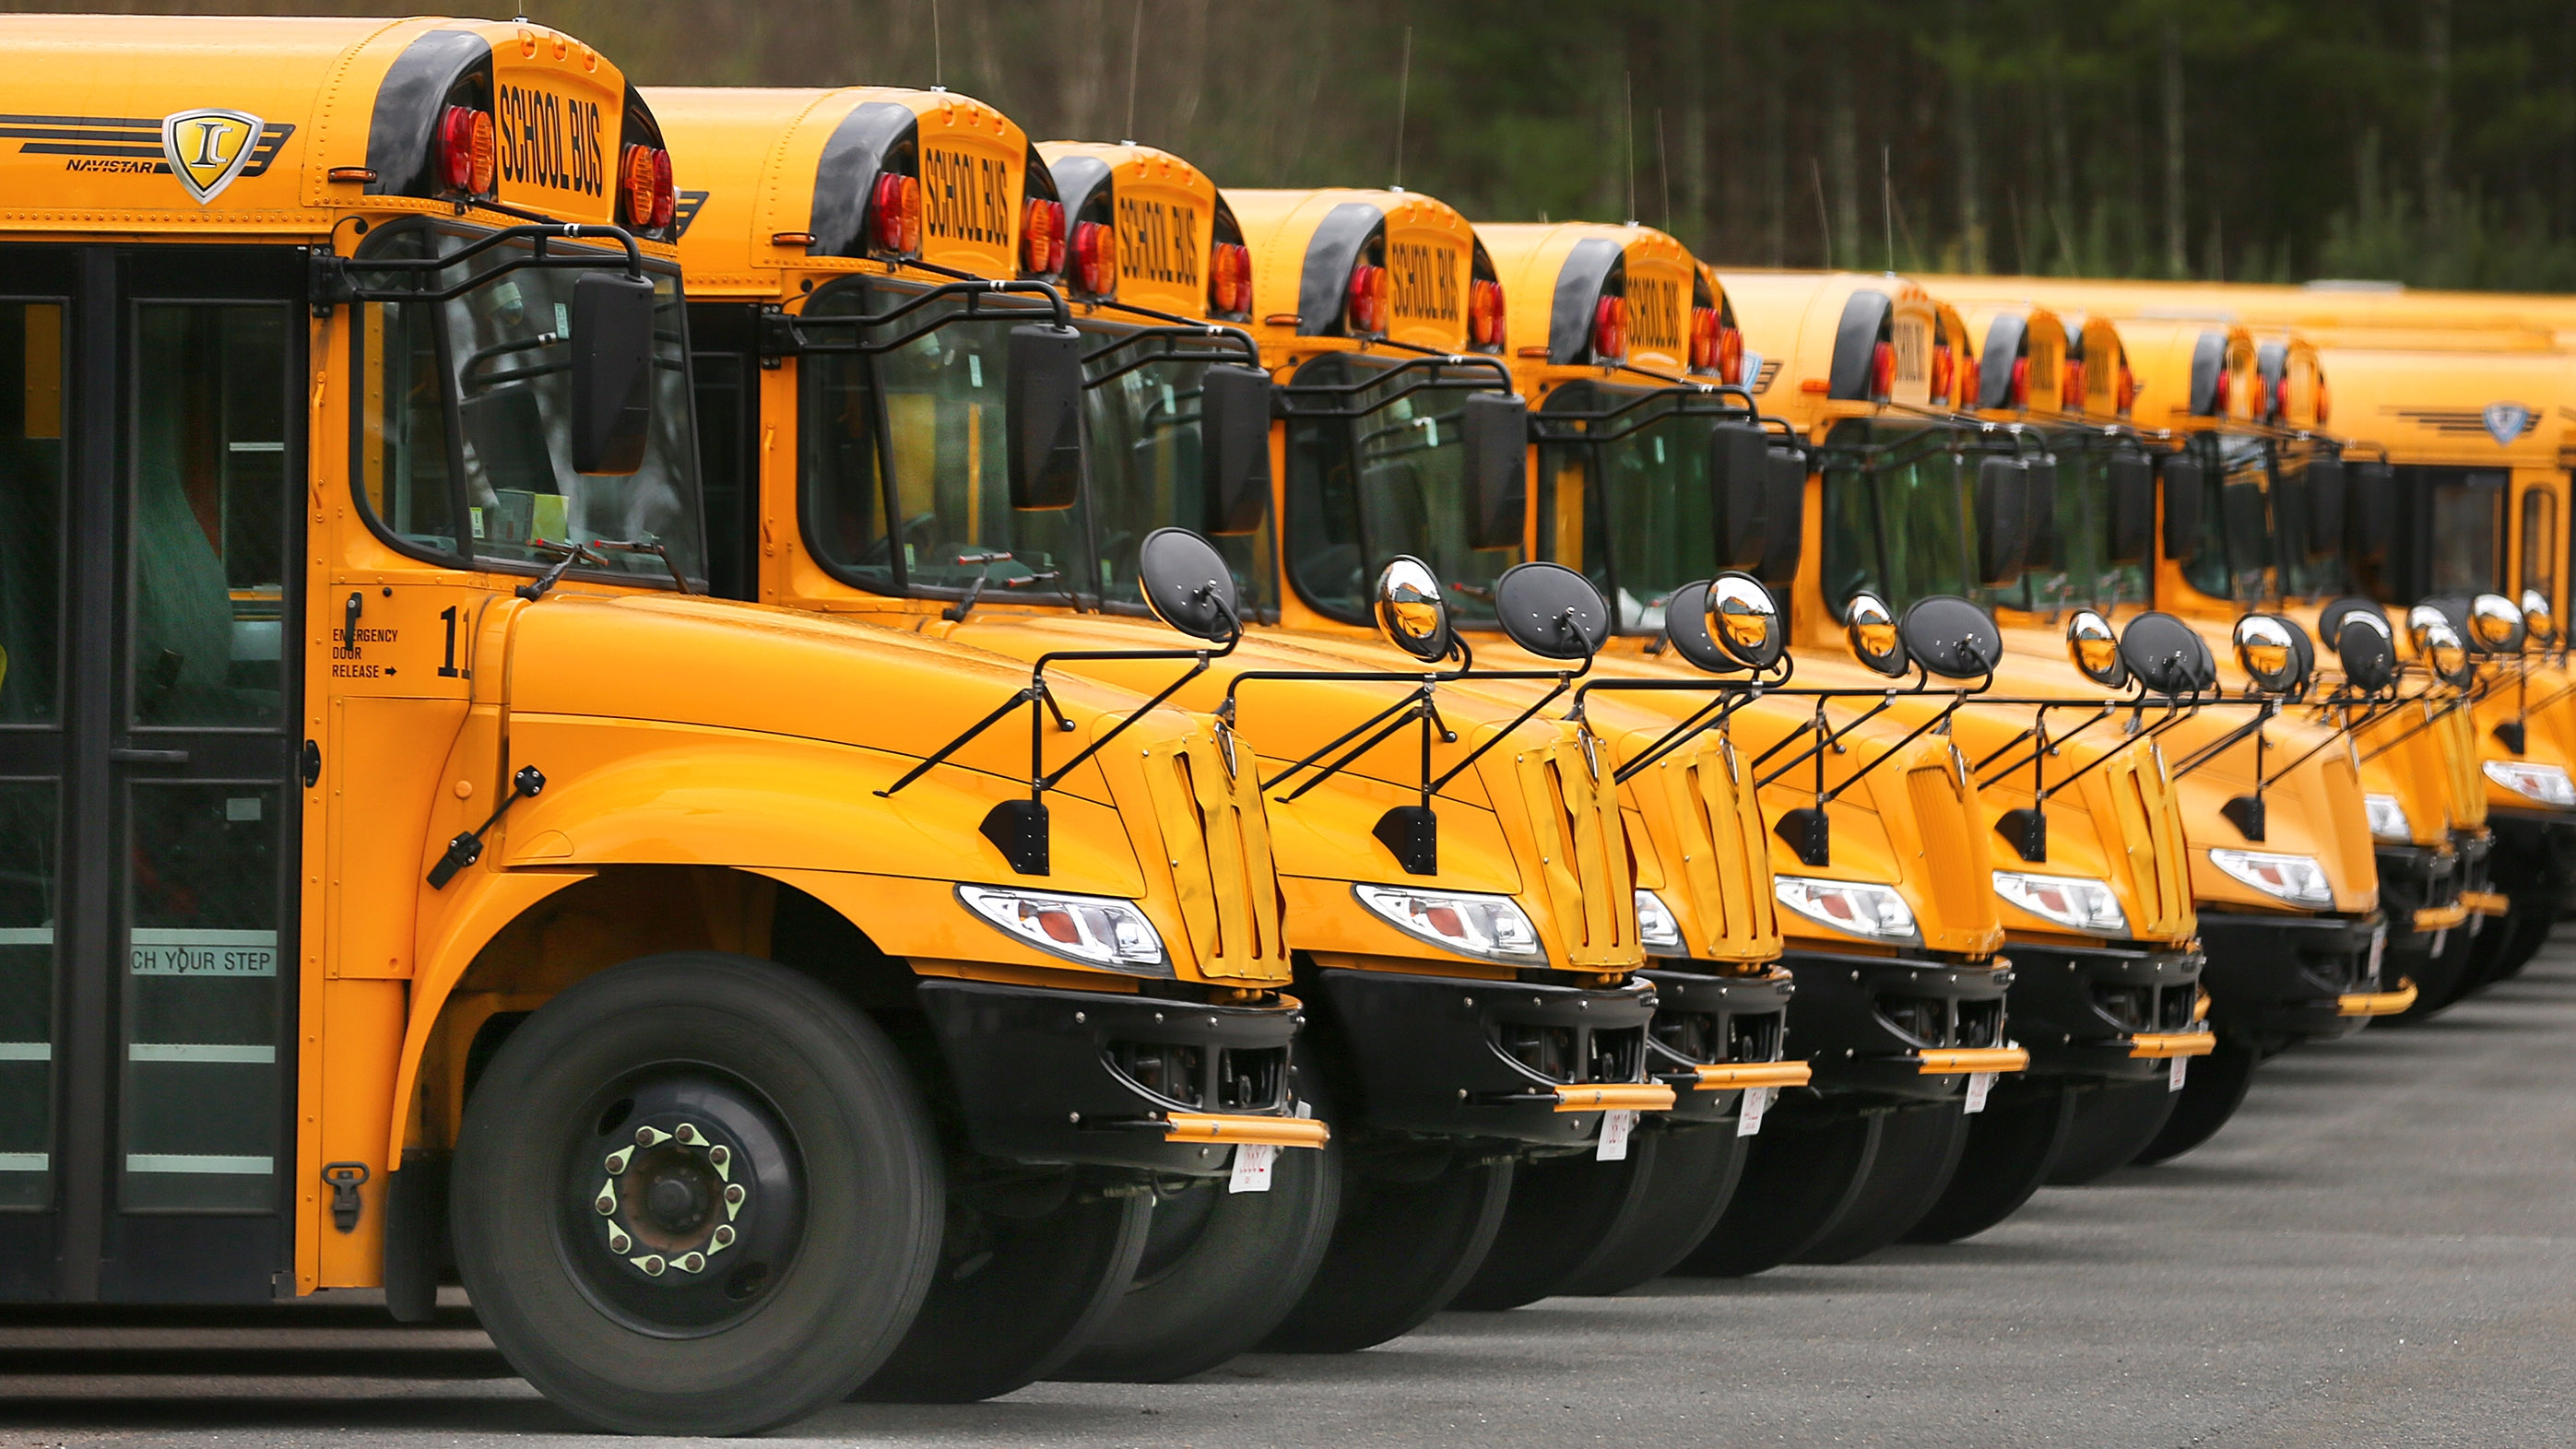bus: (5, 16, 1299, 1444)
